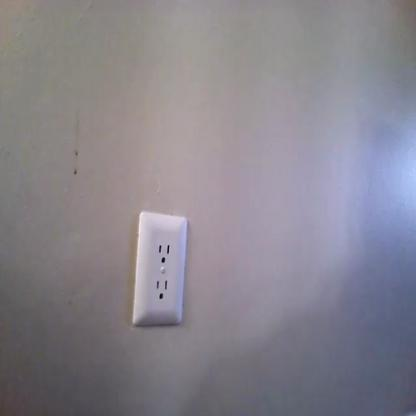OUTLET: (134, 212, 185, 323)
